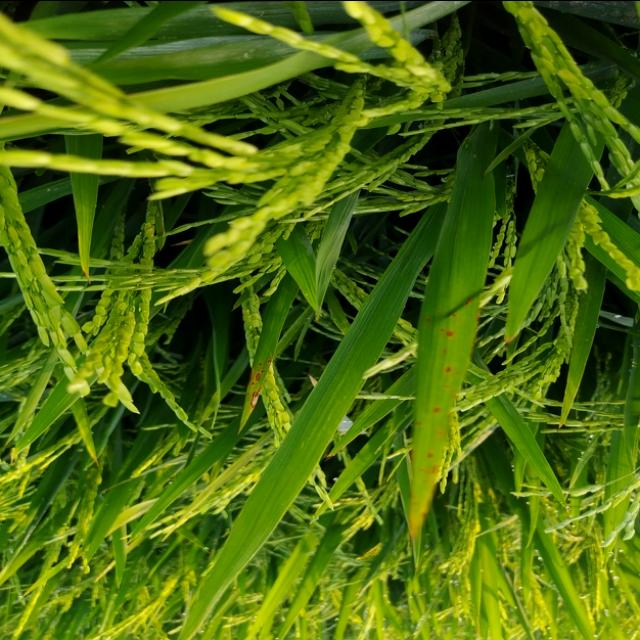insects: (406, 288, 484, 542)
